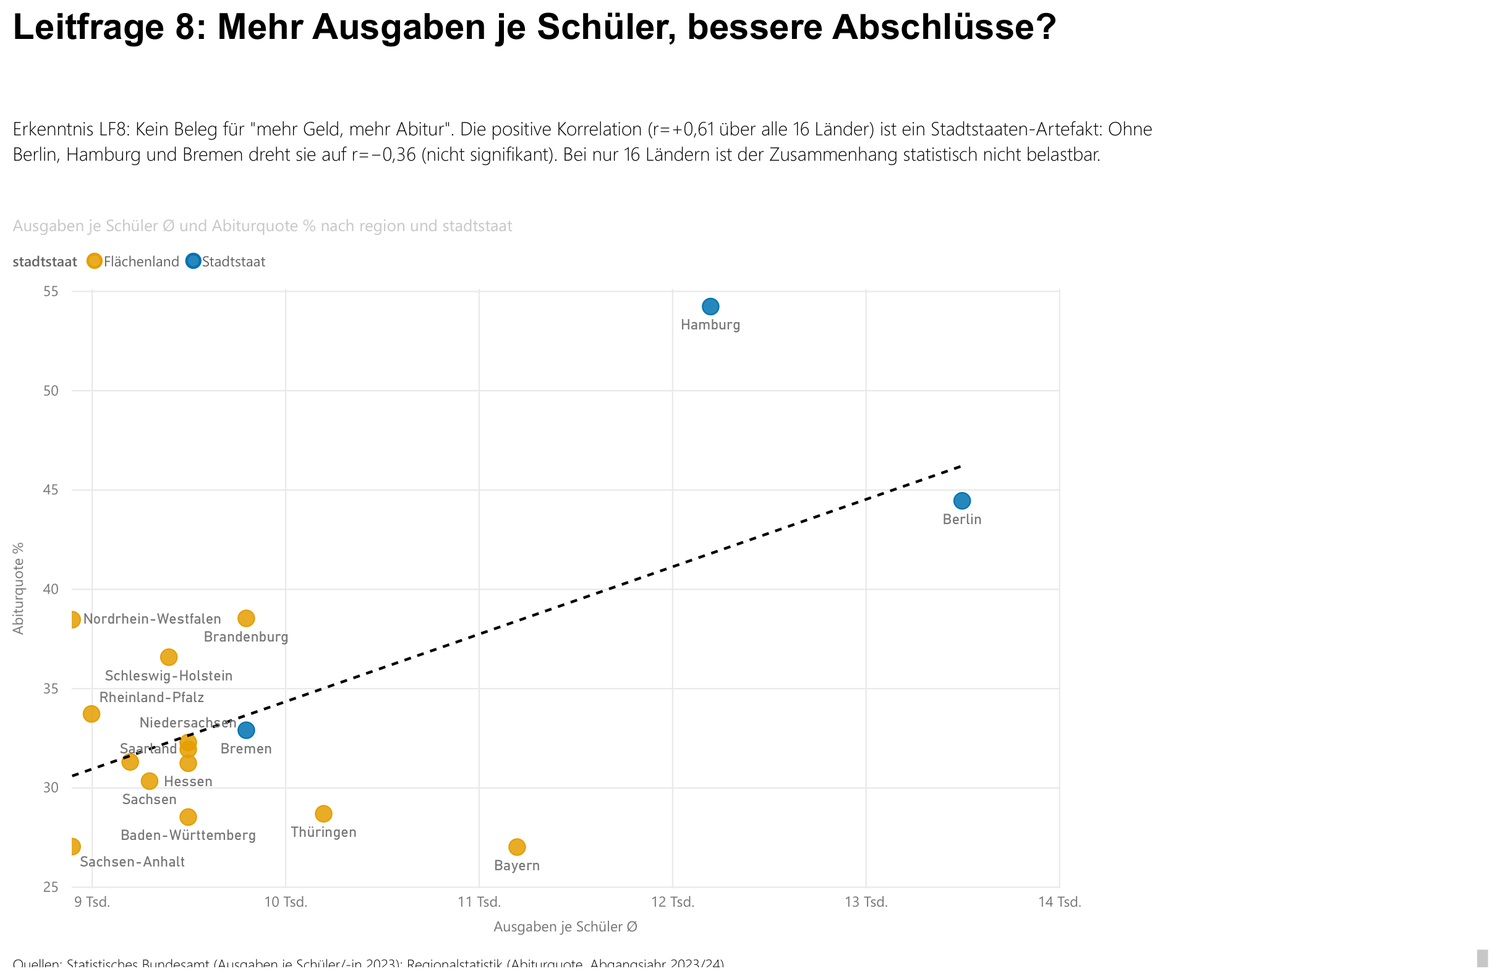

Layout of this report page (visuals, bound fields, positions):
{"tool":"powerbi","page":{"name":"LF8 Ausgaben×Abitur","canvas":[1280,720],"ordinal":8},"visuals":[{"type":"scatterChart","fields":{"Category":["dim_region.region"],"Series":["dim_region.stadtstaat"],"X":["dim_abschluss.Ausgaben je Schüler Ø"],"Y":["dim_abschluss.Abiturquote %"]},"box":[24,157.5,800,538.5],"z":0},{"type":"textbox","box":[24,80,872.2,87.5],"z":1000},{"type":"textbox","box":[24,0,1067,83],"z":2001},{"type":"textbox","box":[24,697,1100,23],"z":8500}]}

Visuals, with their boxes on the page's 1280x720 design canvas (x1, y1, x2, y2). These are canvas units, not pixel positions in the 1500x979 screenshot, which may show the page scaled, cropped or inside an application window:
scatterChart - dim_region.region x dim_region.stadtstaat: <box>24,158,824,696</box>
textbox: <box>24,80,896,168</box>
textbox: <box>24,0,1091,83</box>
textbox: <box>24,697,1124,720</box>
